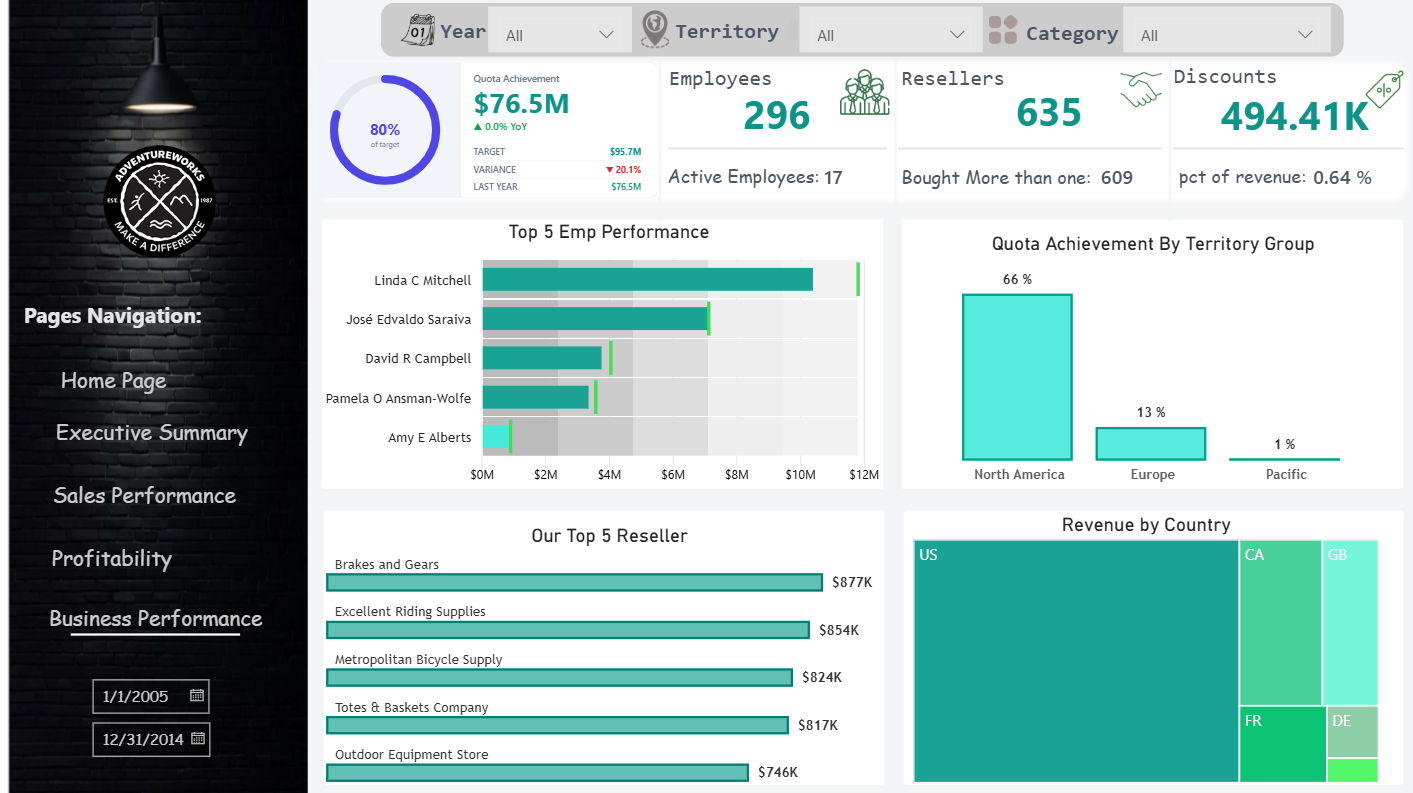

What the dashboard file says about the page in this screenshot:
{"tool":"powerbi","page":{"name":"4","canvas":[1280,720],"ordinal":4},"visuals":[{"type":"cardVisual","fields":{"Data":["_Measures.Gross Profit"]},"box":[314.7,72.4,211.1,71.2],"z":0},{"type":"textbox","box":[539,59.1,154.4,45.8],"z":1000},{"type":"textbox","box":[300.2,59.1,105,45.8],"z":2000},{"type":"shape","box":[300.2,129.3,234,16.9],"z":3000},{"type":"shape","box":[542.6,129.3,234,16.9],"z":4000},{"type":"textbox","box":[302.6,138.7,119.4,45.8],"z":5000},{"type":"image","box":[477.5,65.1,72.4,41],"z":7000},{"type":"cardVisual","fields":{"Data":["_Measures.Reseller Discount %"]},"box":[1123.8,123.5,118,71.4],"z":8000},{"type":"image","box":[722.4,65.1,61.5,45.8],"z":9000},{"type":"cardVisual","fields":{"Data":["_Measures.Profit cf"]},"box":[375,132.7,174.9,57.9],"z":10000},{"type":"shape","box":[784.2,129.1,234,16.9],"z":11000},{"type":"cardVisual","fields":{"Data":["_Measures.Total Resellers"]},"box":[848.1,67.6,202.7,71.2],"z":12000},{"type":"textbox","box":[783,59.1,154.4,45.8],"z":13000},{"type":"image","box":[957.8,61.7,54.9,53.5],"z":14000},{"type":"textbox","box":[1027.5,57.6,252.5,45.3],"z":18000},{"type":"shape","box":[1027.9,129.1,234,16.9],"z":21000},{"type":"cardVisual","fields":{"Data":["_Measures.Employee #"]},"box":[604.4,68.8,211.1,71.2],"z":21003},{"type":"clusteredColumnChart","fields":{"Y":["_Measures.Employee #"]},"box":[1087,258.2,193,150],"z":21004},{"type":"textbox","box":[544.1,138.7,166.5,45.8],"z":21005},{"type":"cardVisual","fields":{"Data":["_Measures.Active Employees"]},"box":[661.1,130.3,118.2,62.7],"z":21006},{"type":"cardVisual","fields":{"Data":["_Measures.Resellers Buys More Than One"]},"box":[938.6,130.4,118,63.1],"z":21008},{"type":"textbox","box":[786.3,140,201.7,46.7],"z":21010},{"type":"cardVisual","fields":{"Data":["_Measures.Reseller Discount (USD)"]},"box":[1051.1,72.7,203.1,70],"z":21011},{"type":"cardVisual","fields":{"Data":["_Measures.Reseller Discount %"]},"box":[570.8,300.5,277.2,124.9],"z":21012},{"type":"textbox","box":[1026.4,138.6,201.7,46.7],"z":21013},{"type":"image","box":[1211.7,64.5,50.8,53.5],"z":21014}]}

Visuals, with their boxes in screenshot pixels (x1, y1, x2, y2), scaled from the page's 1280x720 canvas onto the 1413x793 screenshot:
cardVisual - _Measures.Gross Profit: (347, 80, 580, 158)
textbox: (595, 65, 765, 116)
textbox: (331, 65, 447, 116)
shape: (331, 142, 590, 161)
shape: (599, 142, 857, 161)
textbox: (334, 153, 466, 203)
image: (527, 72, 607, 117)
cardVisual - _Measures.Reseller Discount %: (1241, 136, 1371, 215)
image: (797, 72, 865, 122)
cardVisual - _Measures.Profit cf: (414, 146, 607, 210)
shape: (866, 142, 1124, 161)
cardVisual - _Measures.Total Resellers: (936, 74, 1160, 153)
textbox: (864, 65, 1035, 116)
image: (1057, 68, 1118, 127)
textbox: (1134, 63, 1412, 113)
shape: (1135, 142, 1393, 161)
cardVisual - _Measures.Employee #: (667, 76, 900, 154)
clusteredColumnChart - _Measures.Employee #: (1200, 284, 1412, 450)
textbox: (601, 153, 784, 203)
cardVisual - _Measures.Active Employees: (730, 144, 860, 213)
cardVisual - _Measures.Resellers Buys More Than One: (1036, 144, 1166, 213)
textbox: (868, 154, 1091, 206)
cardVisual - _Measures.Reseller Discount (USD): (1160, 80, 1385, 157)
cardVisual - _Measures.Reseller Discount %: (630, 331, 936, 469)
textbox: (1133, 153, 1356, 204)
image: (1338, 71, 1394, 130)
